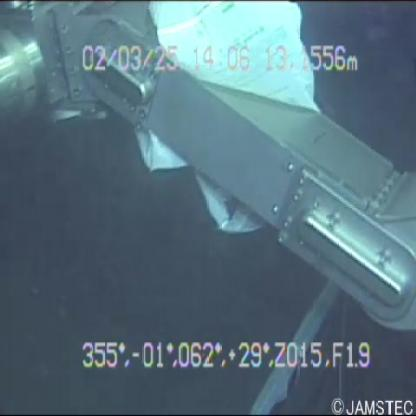Rov: (1, 1, 415, 336)
Rác: (134, 1, 316, 245)
